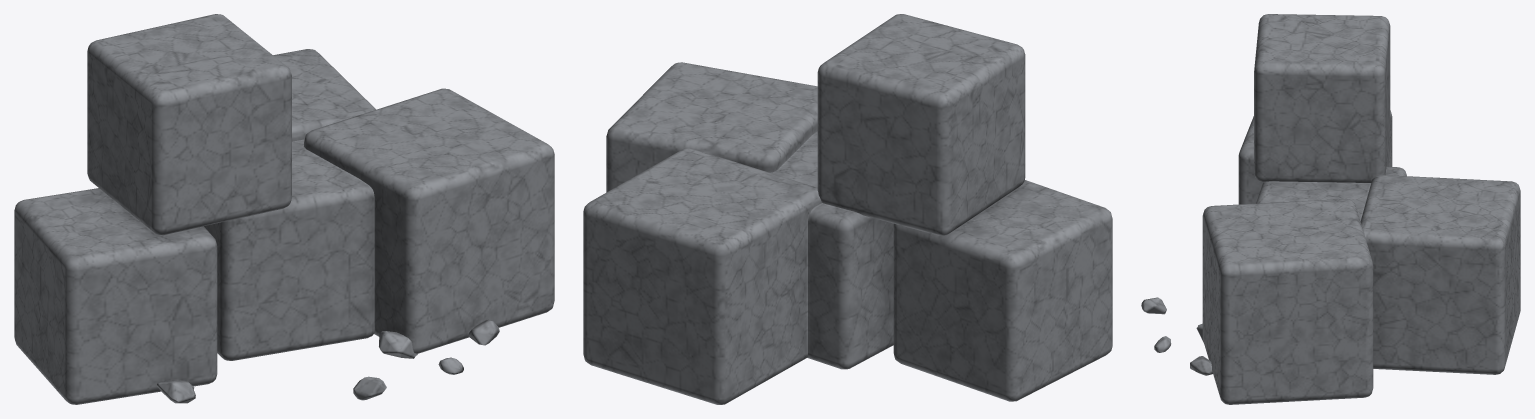
File: block_pile.glb
3 renders of one model, left to right at view 1: azimuth 30°, elevation 25°; view 2: azimuth 150°, elevation 25°; view 3: azimuth 270°, elevation 25°, orthographic. The views are drawn at different scales.
Parts seen in each view (by area): view 1: Prop_block_pile; view 2: Prop_block_pile; view 3: Prop_block_pile.
Boxes of the visible parts, <box> form: Prop_block_pile: <box>14,14,554,404</box>; Prop_block_pile: <box>583,14,1112,404</box>; Prop_block_pile: <box>1141,14,1520,404</box>.
Size of the model in its own units: 3.29 by 2 by 2.78.
Materials: 1 (1 with a texture image).
